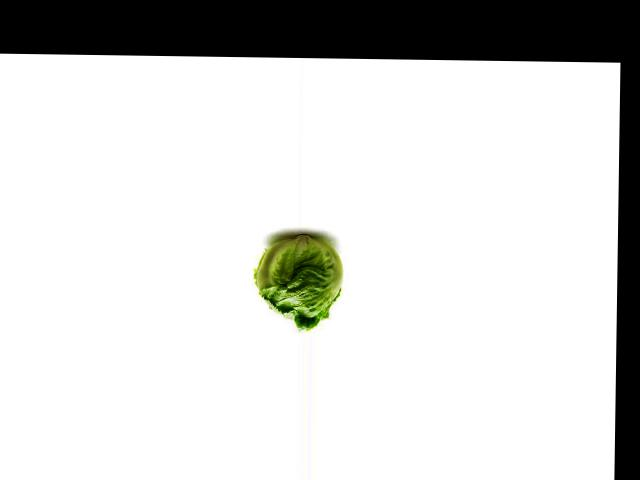lettuce: (245, 230, 346, 331)
